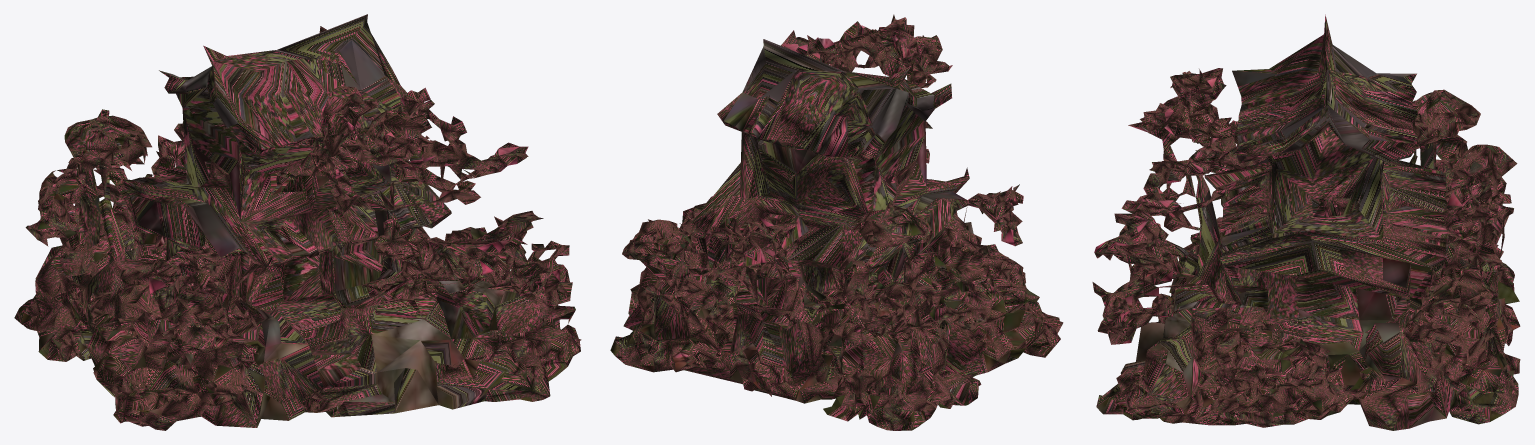
File: lib_mtn_house.lod.glb
3 renders of one model, left to right at view 1: azimuth 30°, elevation 25°; view 2: azimuth 150°, elevation 25°; view 3: azimuth 270°, elevation 25°, orthographic. The views are drawn at different scales.
Parts seen in each view (by area): view 1: output_unwrapped; view 2: output_unwrapped; view 3: output_unwrapped.
Boxes of the visible parts, left/top/right/bottom form: output_unwrapped: left=14, top=14, right=581, bottom=430; output_unwrapped: left=610, top=14, right=1063, bottom=430; output_unwrapped: left=1092, top=14, right=1520, bottom=430.
Bounding box in the file's own units: 1.99 × 1.55 × 1.99.
1 material, 1 textured.
